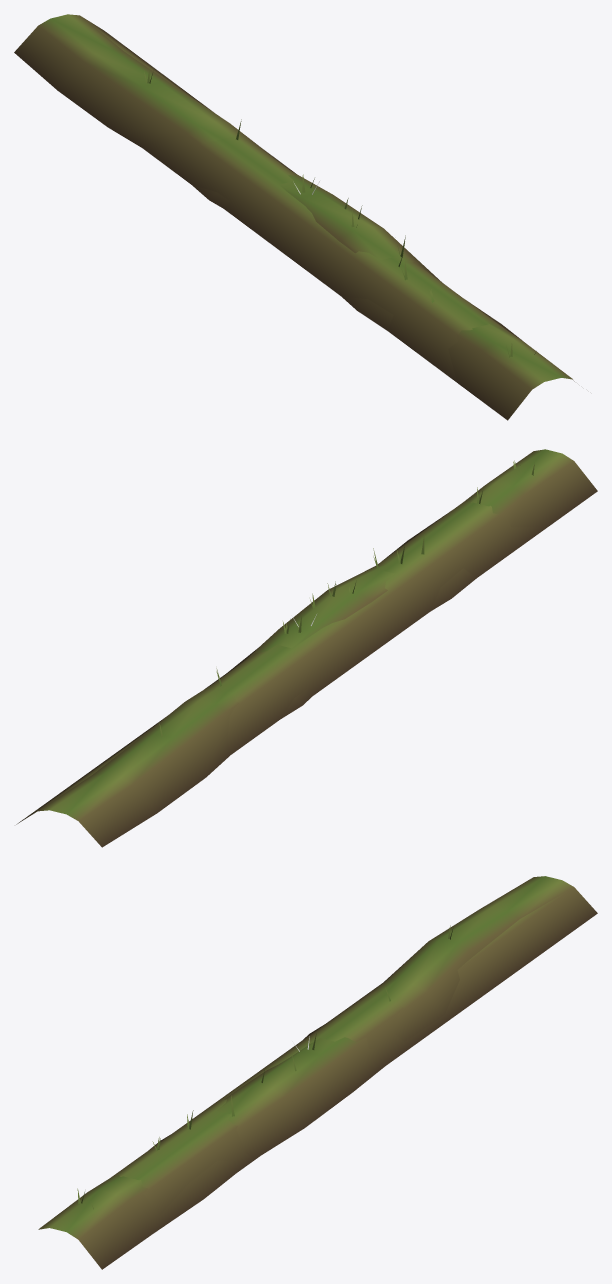
The model's file is paddy.glb.
The picture shows the model from 3 angles, top to bottom: view 1: azimuth 30°, elevation 25°; view 2: azimuth 150°, elevation 25°; view 3: azimuth 330°, elevation 25°; orthographic projection. The views are drawn at different scales.
Parts seen in each view (by area): view 1: bund_hi, bund_lo; view 2: bund_hi, bund_lo; view 3: bund_hi, bund_lo.
Boxes of the visible parts, box(x1,y1,x2,y2) form: bund_hi: box(14, 14, 572, 420); bund_lo: box(81, 16, 574, 382); bund_hi: box(38, 449, 597, 847); bund_lo: box(16, 499, 546, 824); bund_hi: box(38, 876, 573, 1269); bund_lo: box(112, 887, 597, 1215).
Bounding box in the file's own units: 1.13 × 0.5446 × 10.
